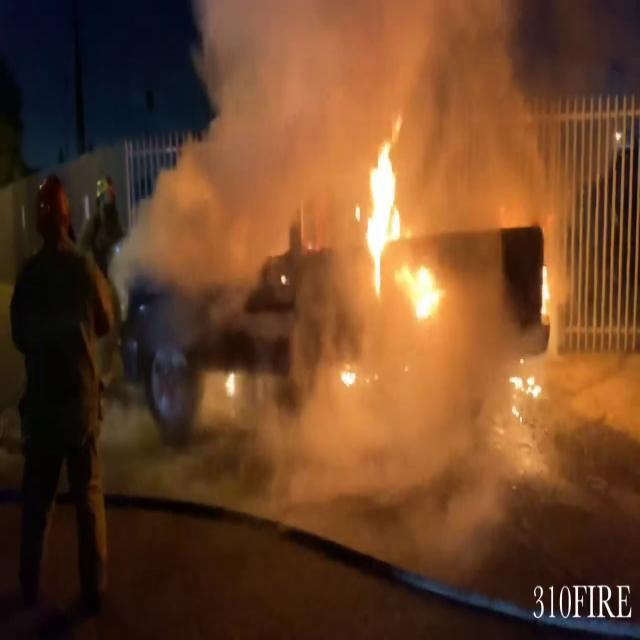Fire: (353, 116, 448, 326), (506, 361, 544, 419)
Smoke: (144, 1, 576, 220), (261, 292, 588, 472)
